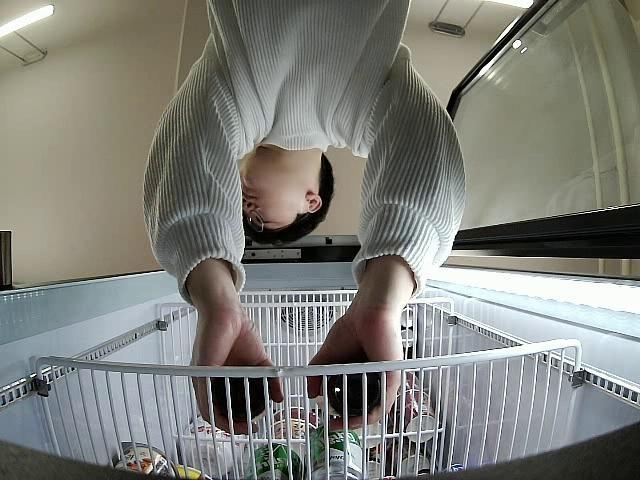17_vita500: (316, 363, 382, 416), (214, 365, 269, 420)
